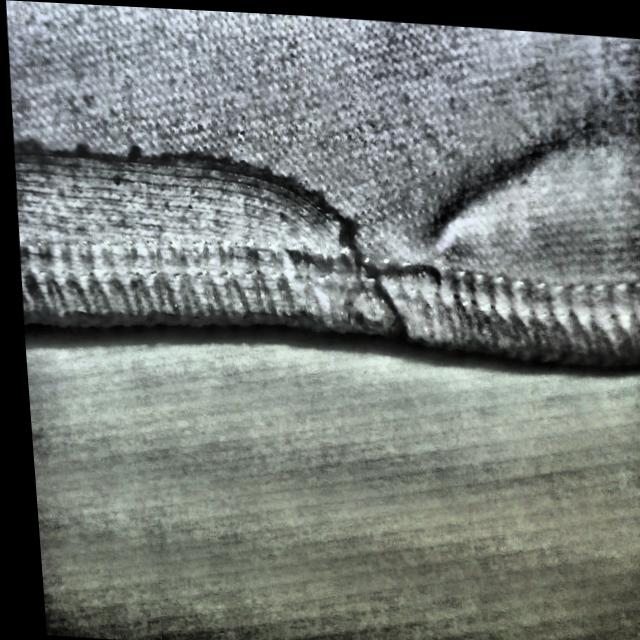seam: (4, 62, 375, 349)
